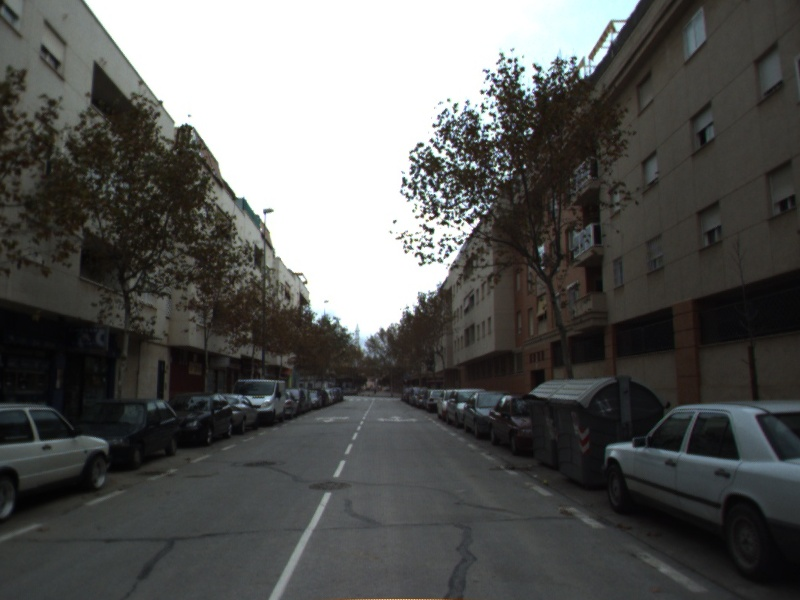STRAIGHT_LEFT_RIGHT: (375, 413, 420, 425)
